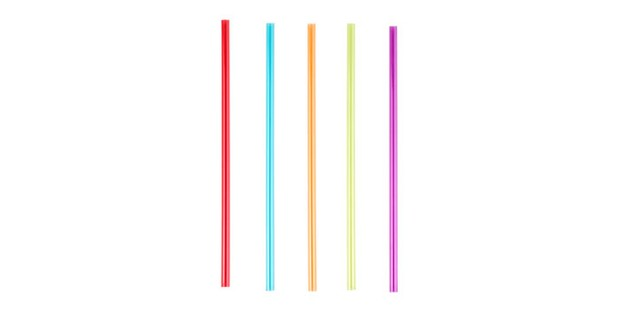Drinking Straw: (385, 21, 403, 297), (218, 18, 235, 290), (304, 21, 320, 295), (344, 21, 360, 295), (263, 21, 277, 294)
